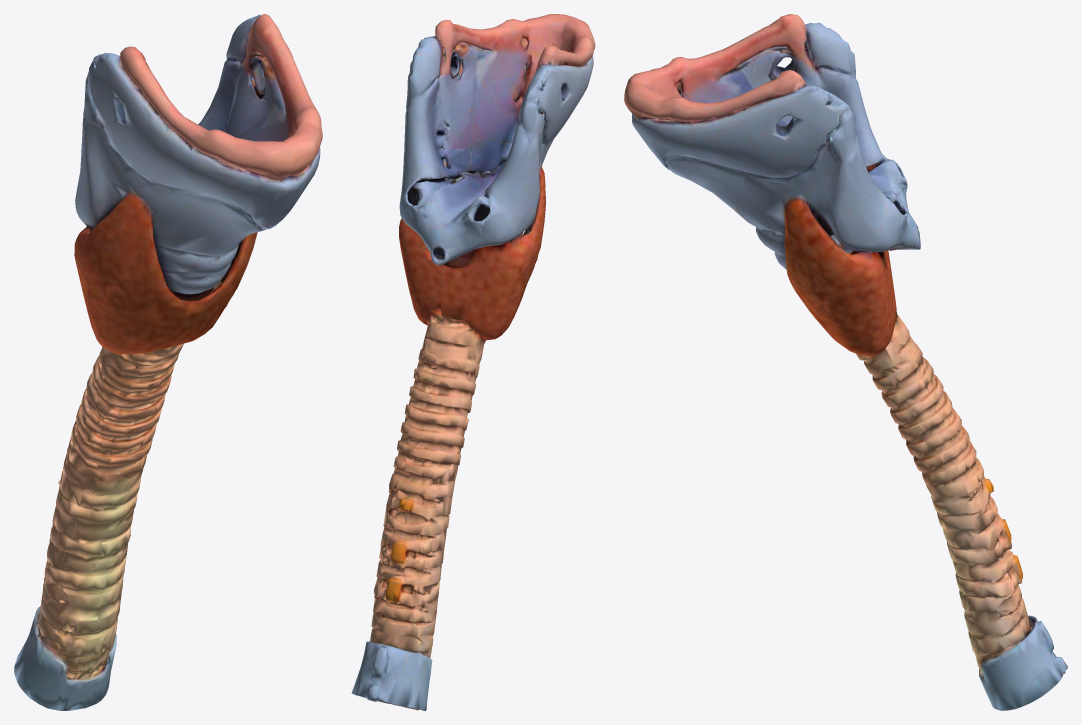
The model's file is phar.glb.
3 renders of one model, left to right at view 1: azimuth 30°, elevation 25°; view 2: azimuth 150°, elevation 25°; view 3: azimuth 270°, elevation 25°, orthographic. The views are drawn at different scales.
Size of the model in its own units: 0.4421 by 1.9 by 1.16.
1 material, 1 textured.
